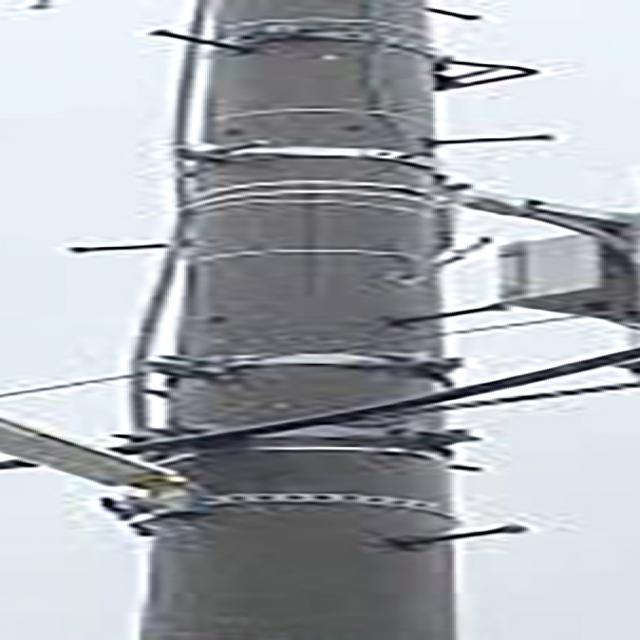pole: (0, 1, 629, 639)
